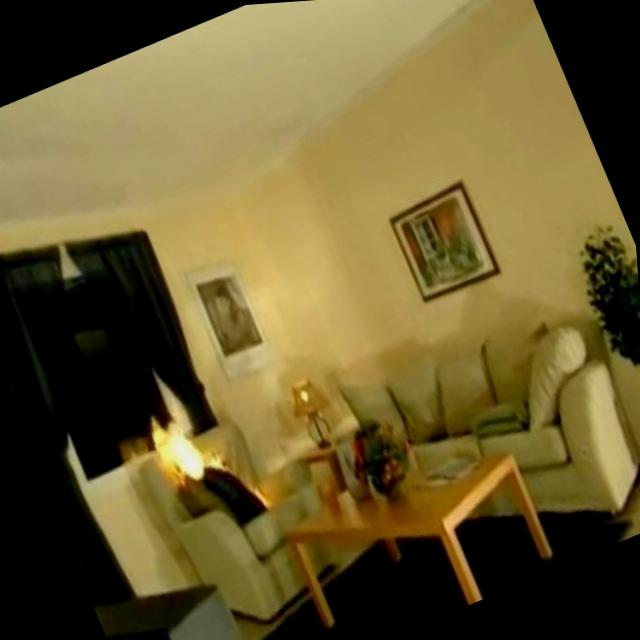fire: (116, 367, 301, 586)
